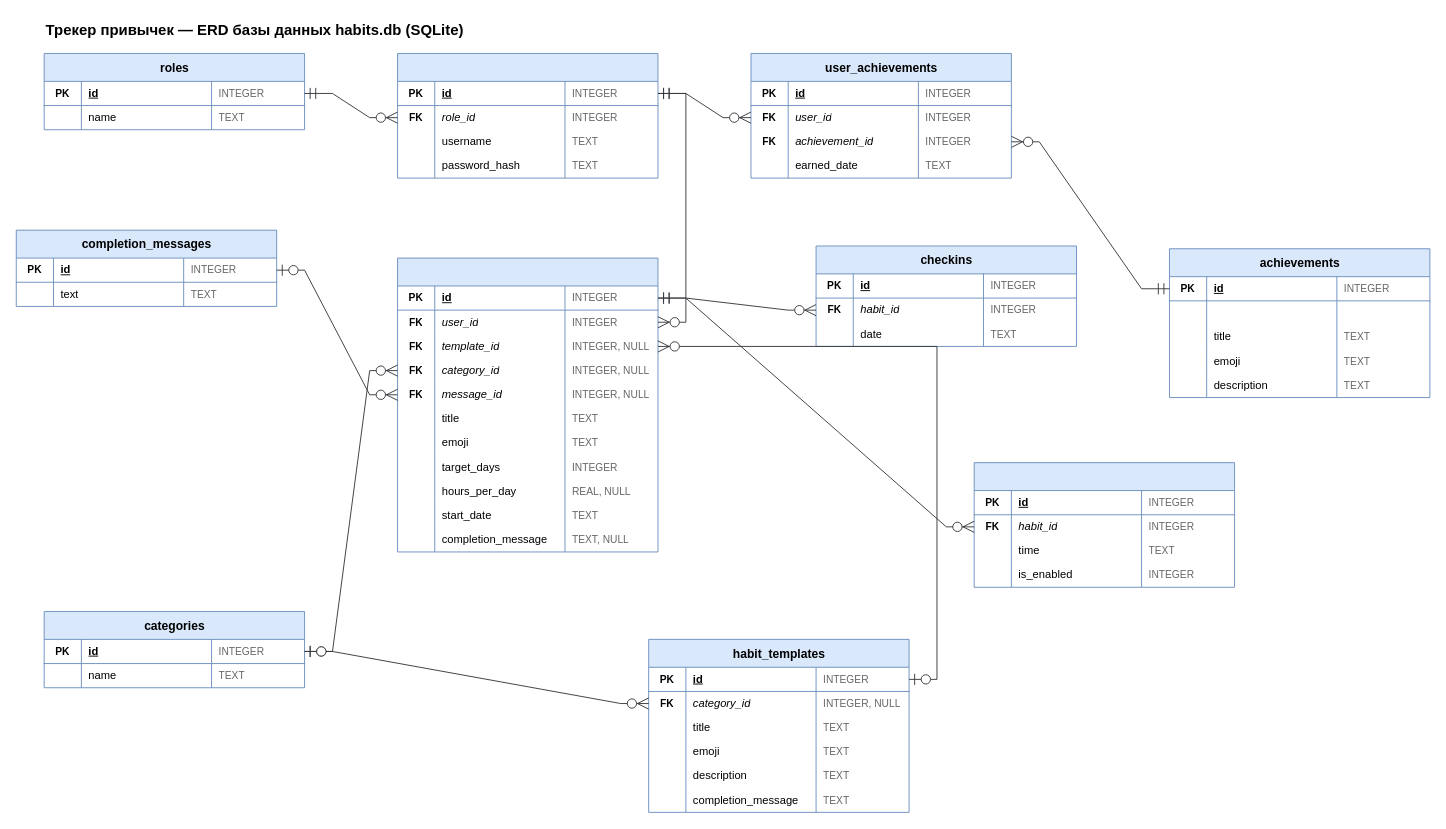
The diagram is 1446 pixels wide and 829 high, and some of its shapes have lost their labels. Here are the shapes that lost their labels. From the top down, the box of each, then its label:
(397, 53, 658, 178): users
(397, 257, 658, 552): habits
(973, 462, 1235, 587): reminders
